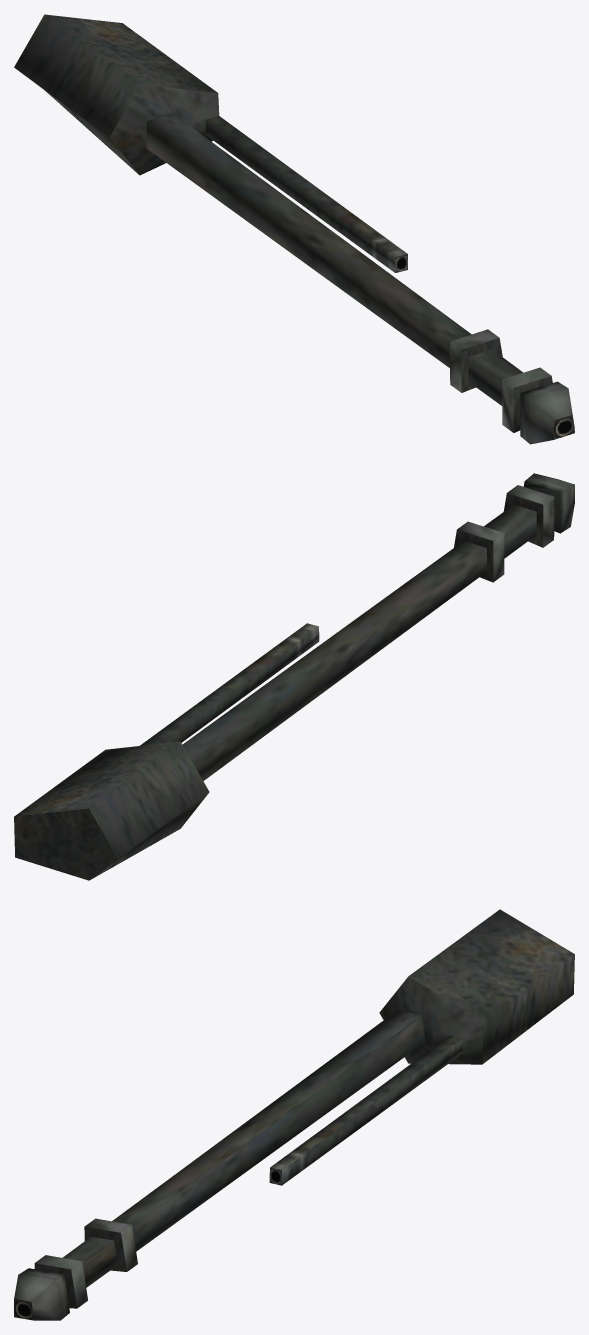
Rendered from bwing_weapon2r_s01_l1.fbx.
3 renders of one model, top to bottom at view 1: azimuth 30°, elevation 25°; view 2: azimuth 150°, elevation 25°; view 3: azimuth 330°, elevation 25°, orthographic. The views are drawn at different scales.
Visible parts, largest first — view 1: mesh_node; view 2: mesh_node; view 3: mesh_node.
Part boxes in pixels (<box>): mesh_node: <box>14,14,574,444</box>; mesh_node: <box>14,473,574,880</box>; mesh_node: <box>14,909,574,1320</box>.
Size of the model in its own units: 0.3409 by 0.2731 by 2.76.
